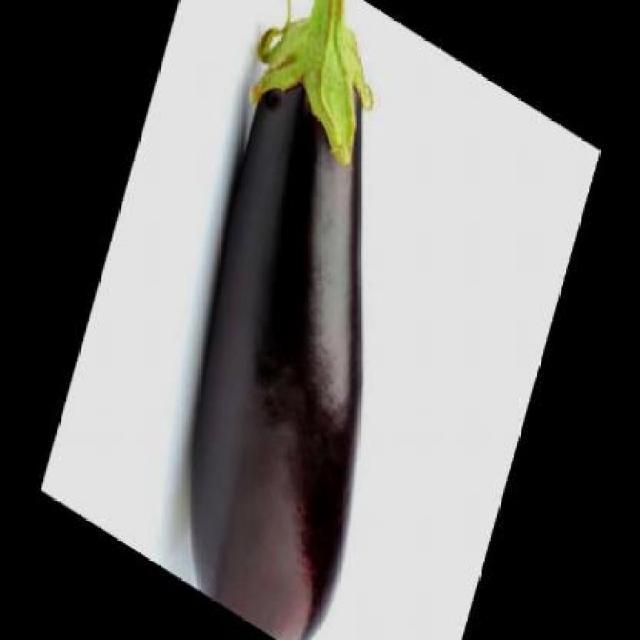eggplant: (184, 0, 380, 638)
